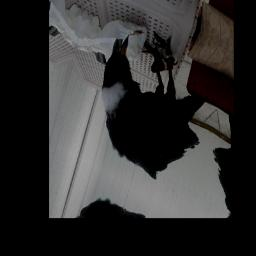Crow: (82, 7, 222, 197)
